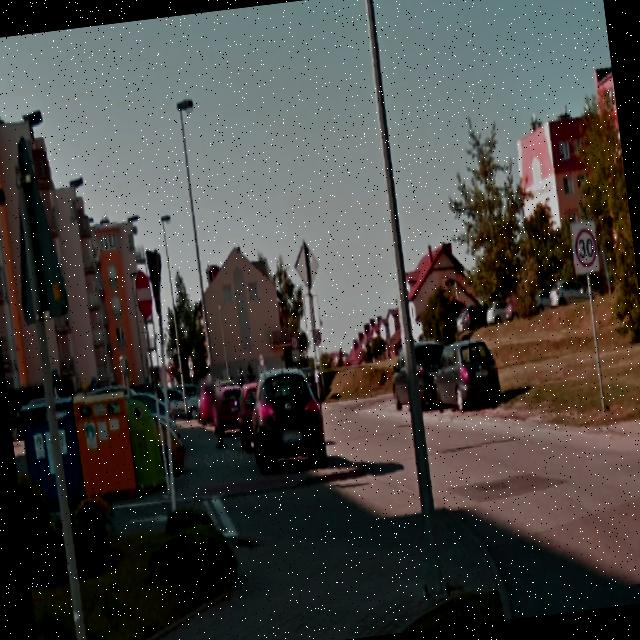Zakaz wjazdu: (131, 265, 154, 320)
